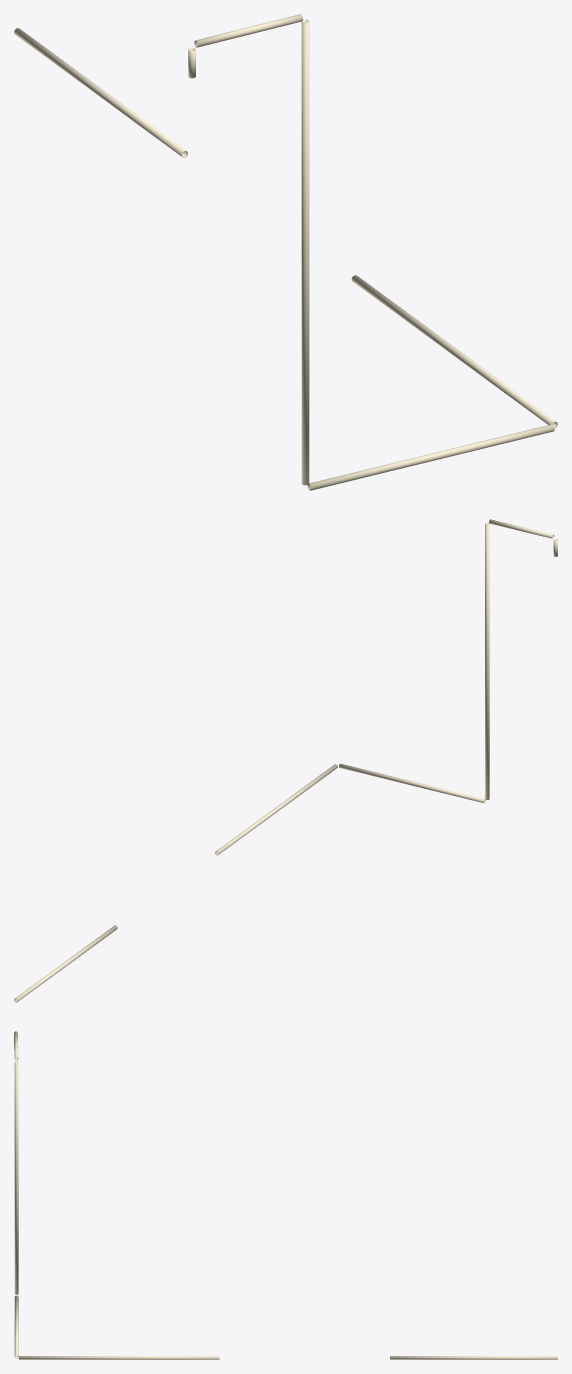
The model's file is pipes_supply__water_heater__351c022b.glb.
3 renders of one model, top to bottom at view 1: azimuth 30°, elevation 25°; view 2: azimuth 150°, elevation 25°; view 3: azimuth 270°, elevation 25°, orthographic. The views are drawn at different scales.
Parts seen in each view (by area): view 1: pipe_supply_cold_riser_flo_s, pipe_supply_cold_riser_flo_n; view 2: pipe_supply_cold_riser_flo_s, pipe_supply_cold_riser_flo_n; view 3: pipe_supply_cold_riser_flo_s, pipe_supply_cold_riser_flo_n.
Part boxes in pixels (<box>): pipe_supply_cold_riser_flo_s: <box>188,14,557,490</box>; pipe_supply_cold_riser_flo_n: <box>14,28,187,157</box>; pipe_supply_cold_riser_flo_s: <box>215,519,557,855</box>; pipe_supply_cold_riser_flo_n: <box>14,925,117,1002</box>; pipe_supply_cold_riser_flo_s: <box>14,1031,219,1359</box>; pipe_supply_cold_riser_flo_n: <box>390,1356,557,1359</box>.
Bounding box in the file's own units: 1.26 × 1.55 × 3.19.
